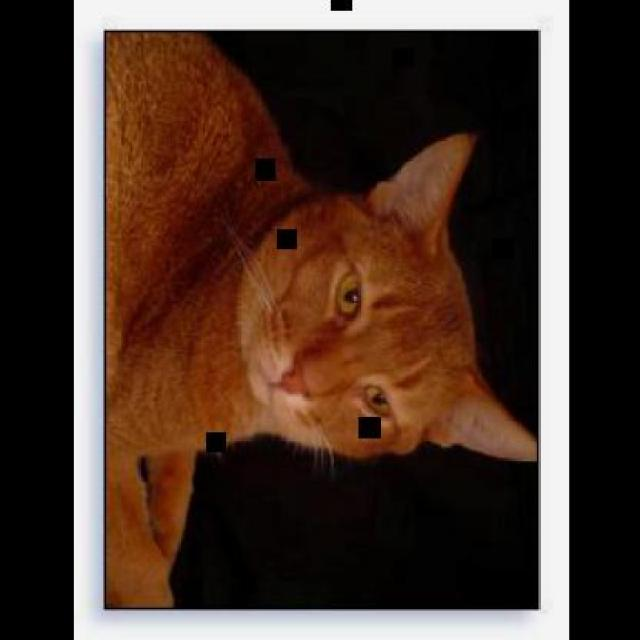unauthorized: (103, 31, 537, 606)
